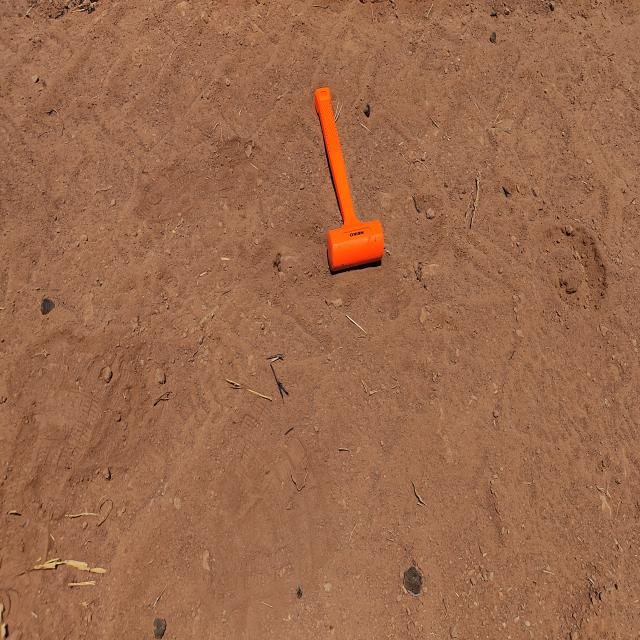Orange_hammer: (314, 85, 384, 274)
